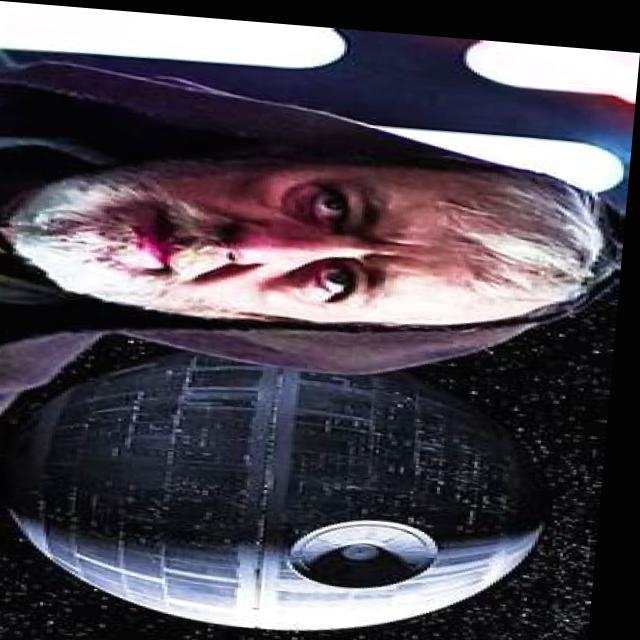deathStar: (6, 340, 557, 640)
